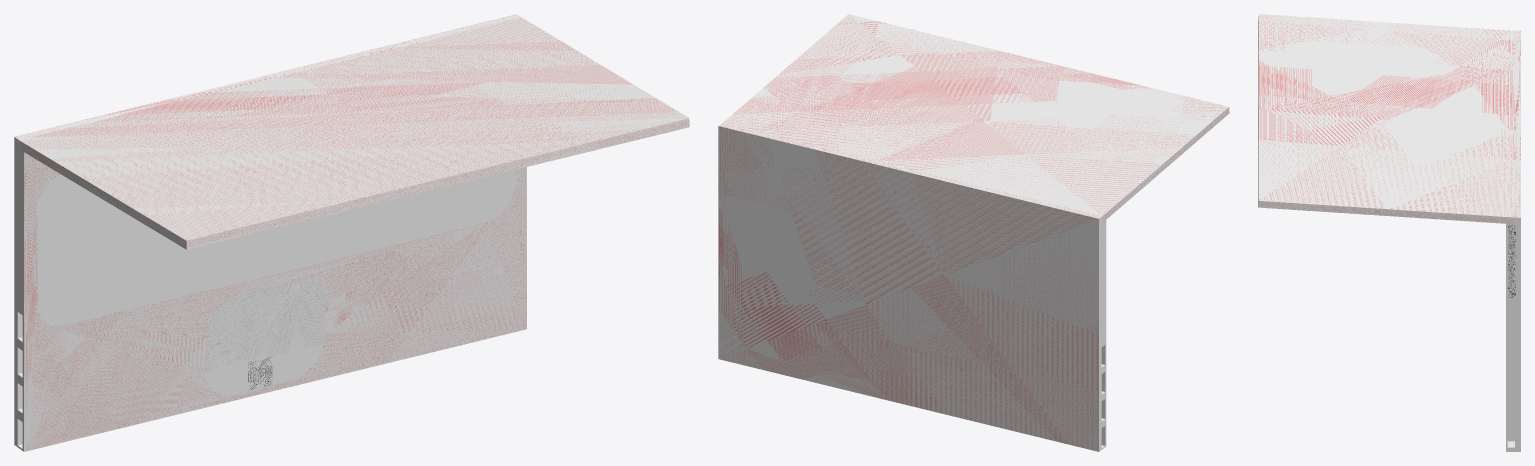
The picture shows the model from 3 angles, left to right: view 1: azimuth 30°, elevation 25°; view 2: azimuth 150°, elevation 25°; view 3: azimuth 270°, elevation 25°; orthographic projection. The views are drawn at different scales.
Parts seen in each view (by area): view 1: the pink notebook; view 2: the pink notebook; view 3: the pink notebook.
Boxes of the visible parts, x1=… form: the pink notebook: x1=14, y1=14, x2=689, y2=451; the pink notebook: x1=718, y1=14, x2=1229, y2=451; the pink notebook: x1=1258, y1=14, x2=1520, y2=451.
Bounding box in the file's own units: 14.75 × 9.25 × 8.77.
